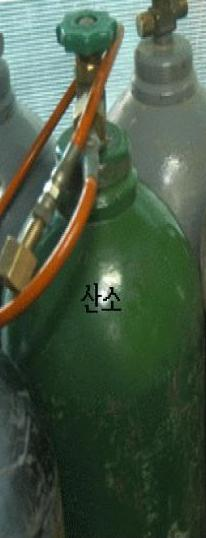cylinder: (1, 1, 206, 538)
